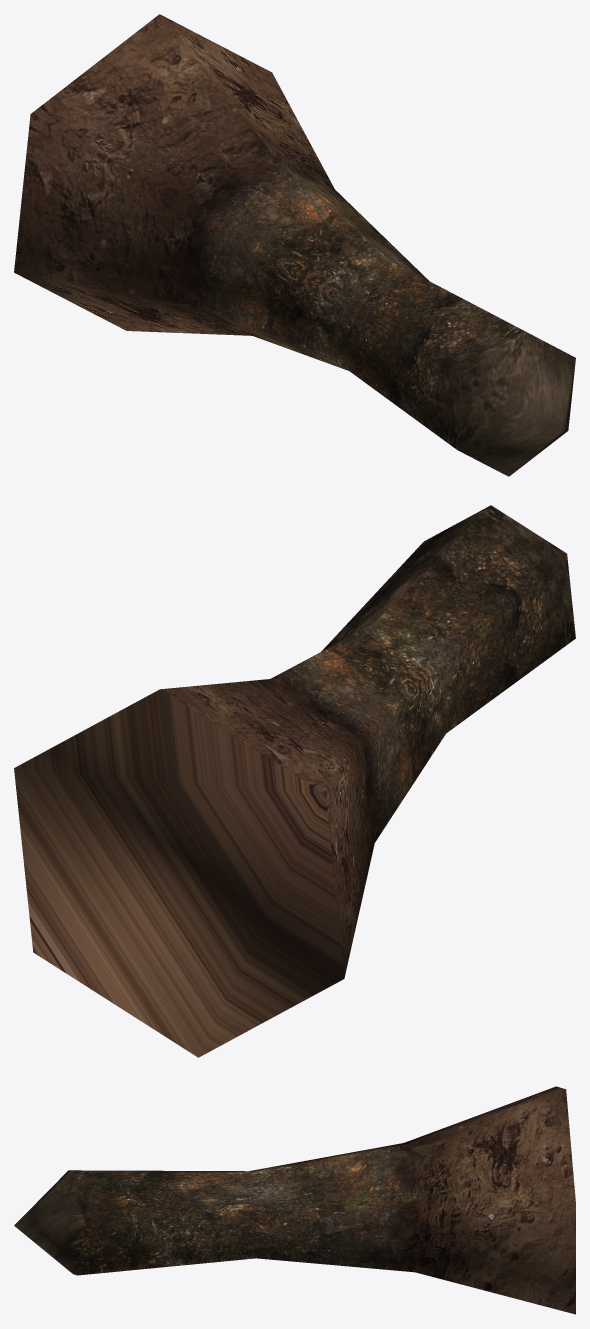
The model's file is stalagmite_05.obj.
The picture shows the model from 3 angles, top to bottom: view 1: azimuth 30°, elevation 25°; view 2: azimuth 150°, elevation 25°; view 3: azimuth 270°, elevation 25°; orthographic projection. The views are drawn at different scales.
Parts seen in each view (by area): view 1: (null); view 2: (null); view 3: (null).
Boxes of the visible parts, <box> form: (null): <box>14,14,575,476</box>; (null): <box>14,505,575,1057</box>; (null): <box>14,1086,575,1314</box>.
Bounding box in the file's own units: 2.9 × 3.15 × 6.85.
